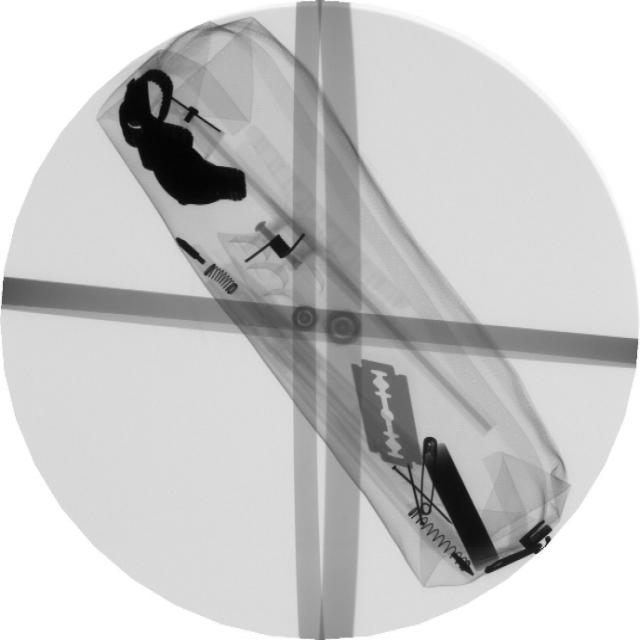BLADE: (352, 352, 430, 476)
